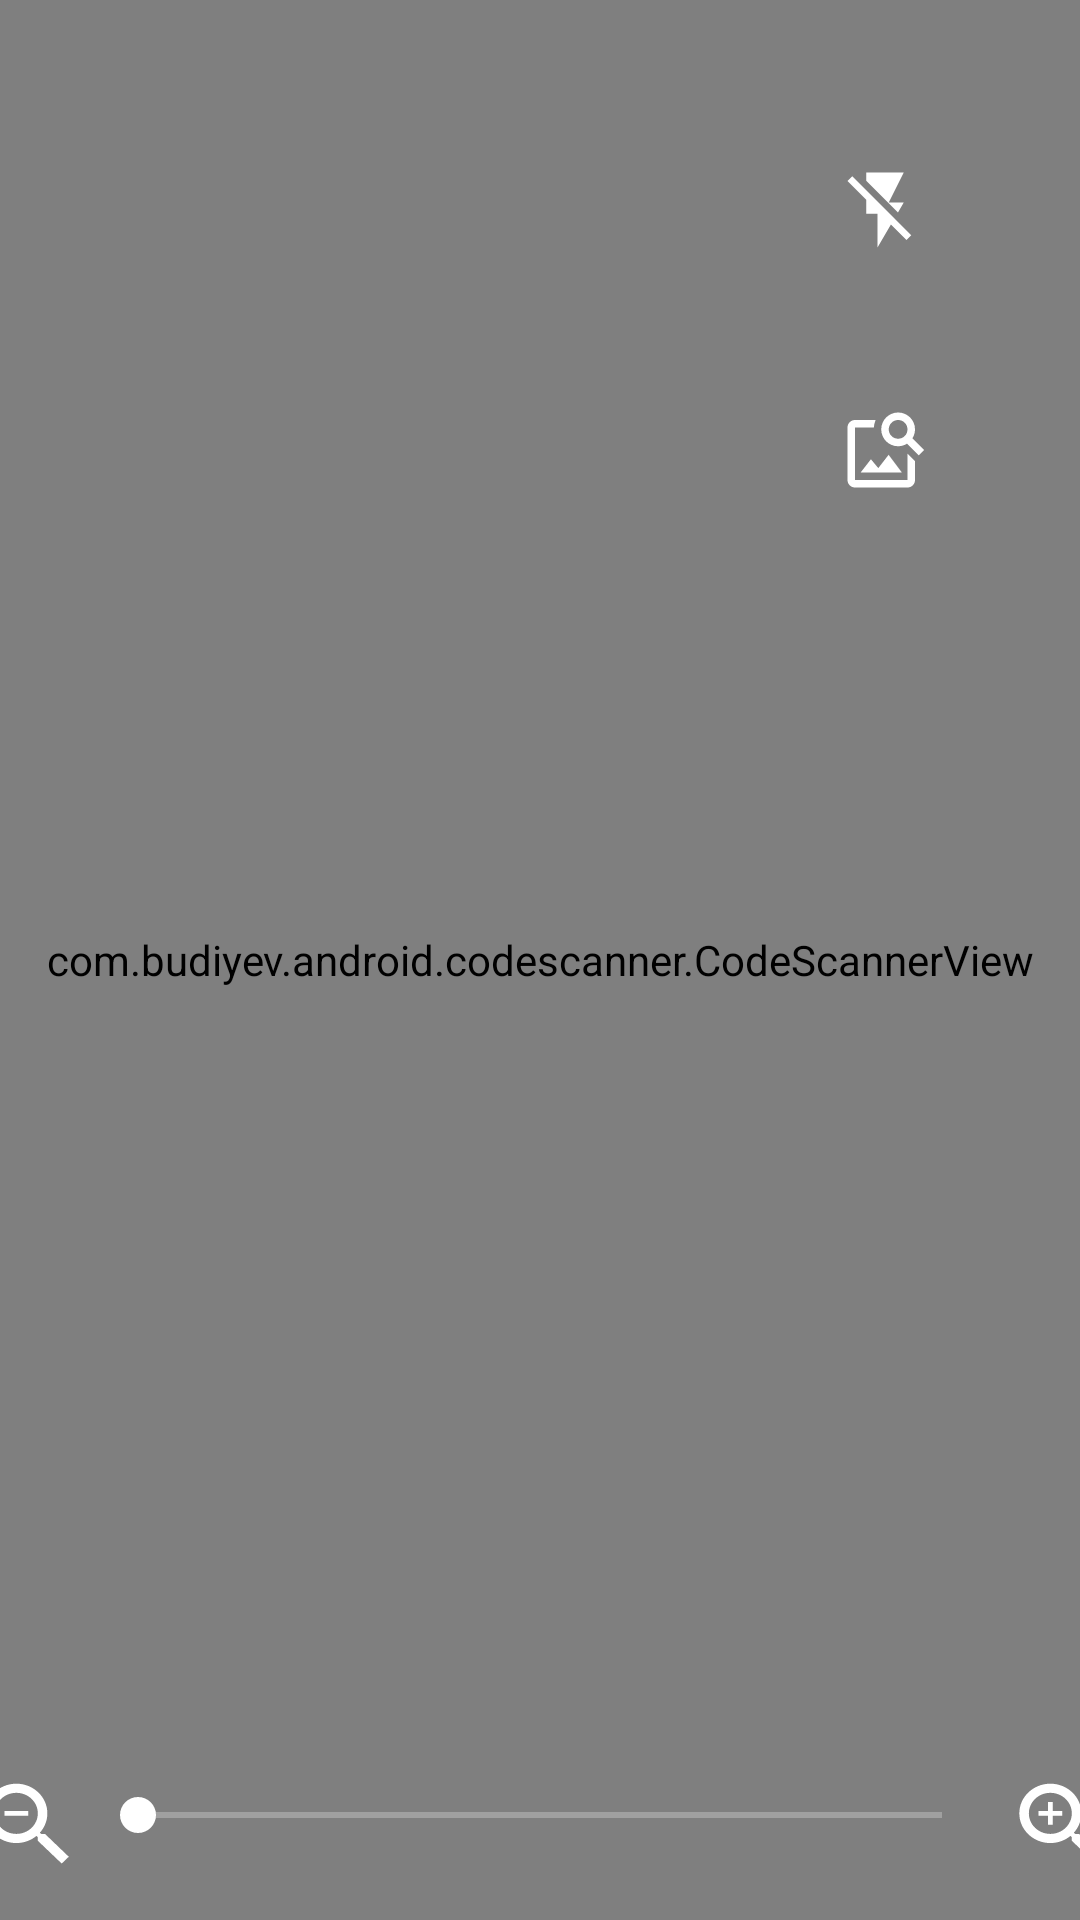

Icon bounding boxes for this 1080 x 1920 phone screenshot, format (x1, y1, x2, y2):
Flash: (848, 172, 911, 247)
Galery: (847, 412, 924, 488)
